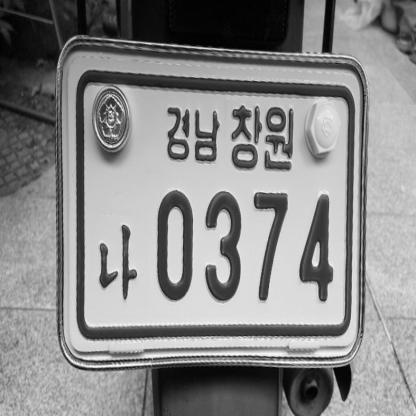bnum: (52, 28, 372, 373)
